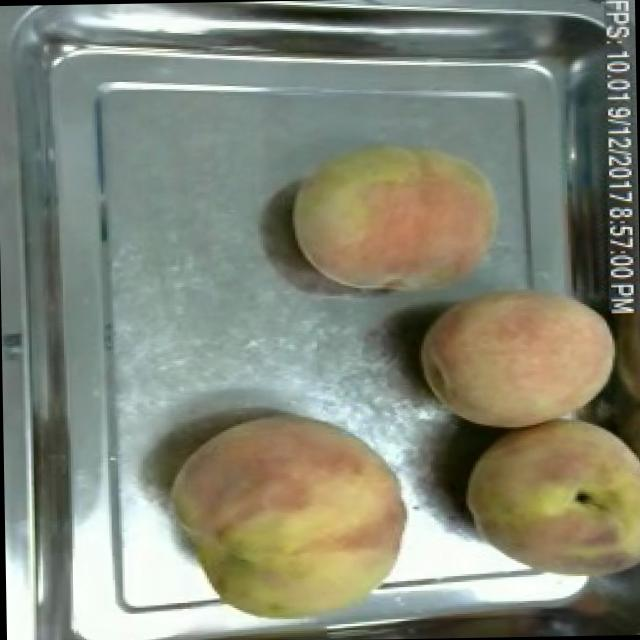Fruit: (163, 400, 420, 640), (282, 132, 508, 302), (451, 406, 640, 605), (408, 276, 630, 440)
